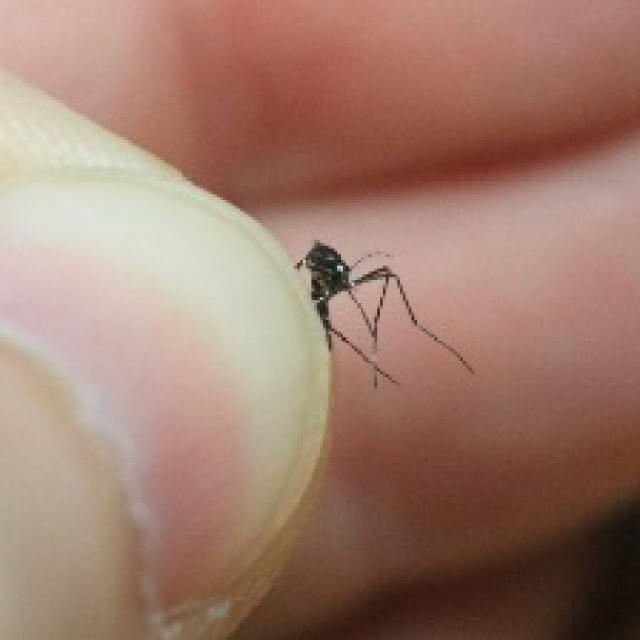aedes: (292, 237, 474, 389)
